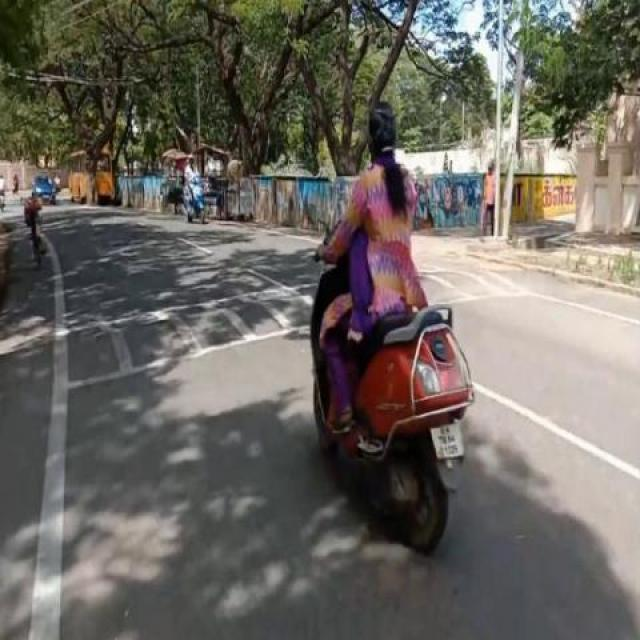Speed Bump: (0, 281, 312, 388), (423, 257, 556, 307)
